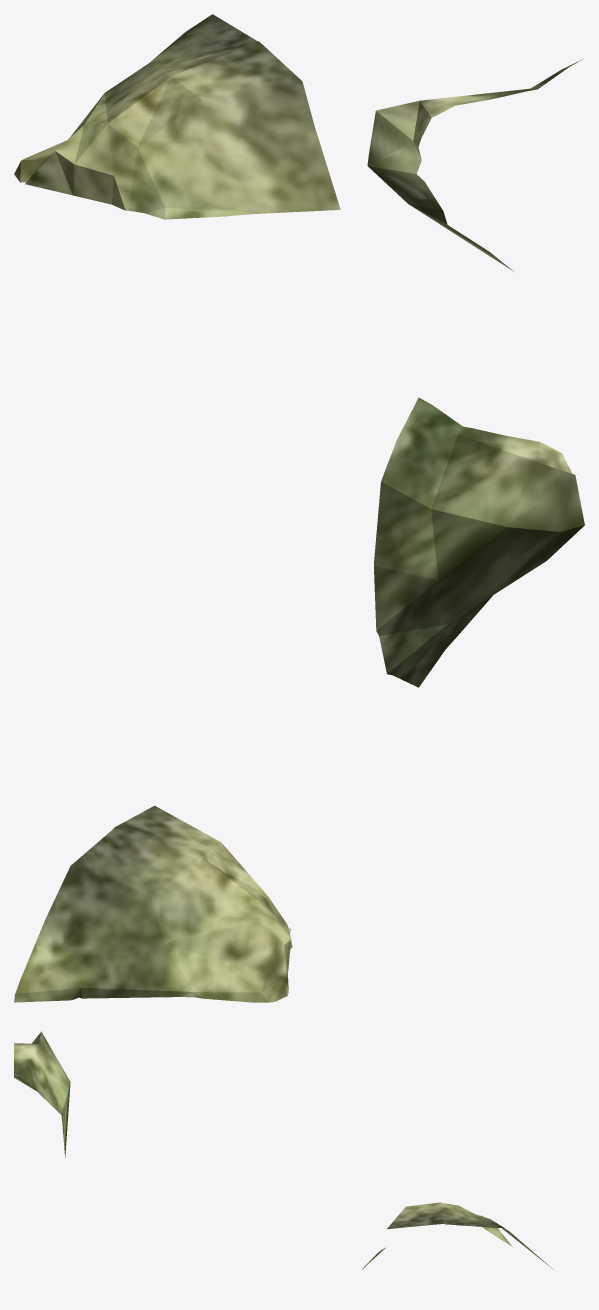
3 views of the same model, one above another, from view 1: azimuth 30°, elevation 25°; view 2: azimuth 150°, elevation 25°; view 3: azimuth 270°, elevation 25° (orthographic). The views are drawn at different scales.
Size of the model in its own units: 1.35 by 2.01 by 4.77.
1 material, 1 textured.
